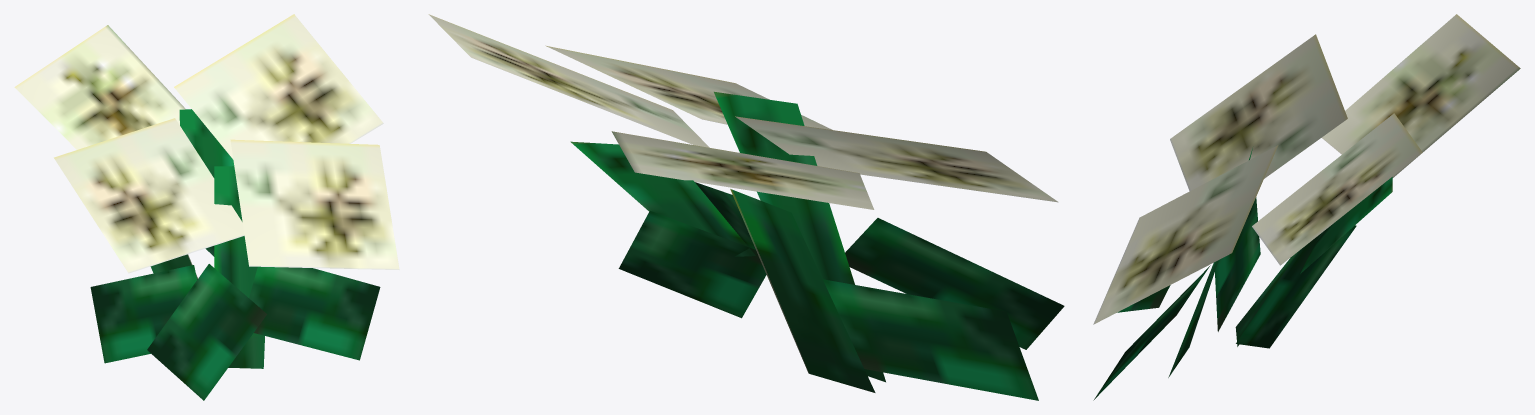
The model's file is flw_yuri_wt.dae.
The picture shows the model from 3 angles, left to right: view 1: azimuth 30°, elevation 25°; view 2: azimuth 150°, elevation 25°; view 3: azimuth 270°, elevation 25°; orthographic projection. The views are drawn at different scales.
Visible parts, largest first — view 1: flw_yuri_wt; view 2: flw_yuri_wt; view 3: flw_yuri_wt.
Boxes of the visible parts, x1,y1,x2,y2 form: flw_yuri_wt: (14,14,399,400); flw_yuri_wt: (428,14,1064,400); flw_yuri_wt: (1093,14,1520,400).
Bounding box in the file's own units: 31.8 × 23.79 × 30.05.
Materials: 1 (1 with a texture image).
